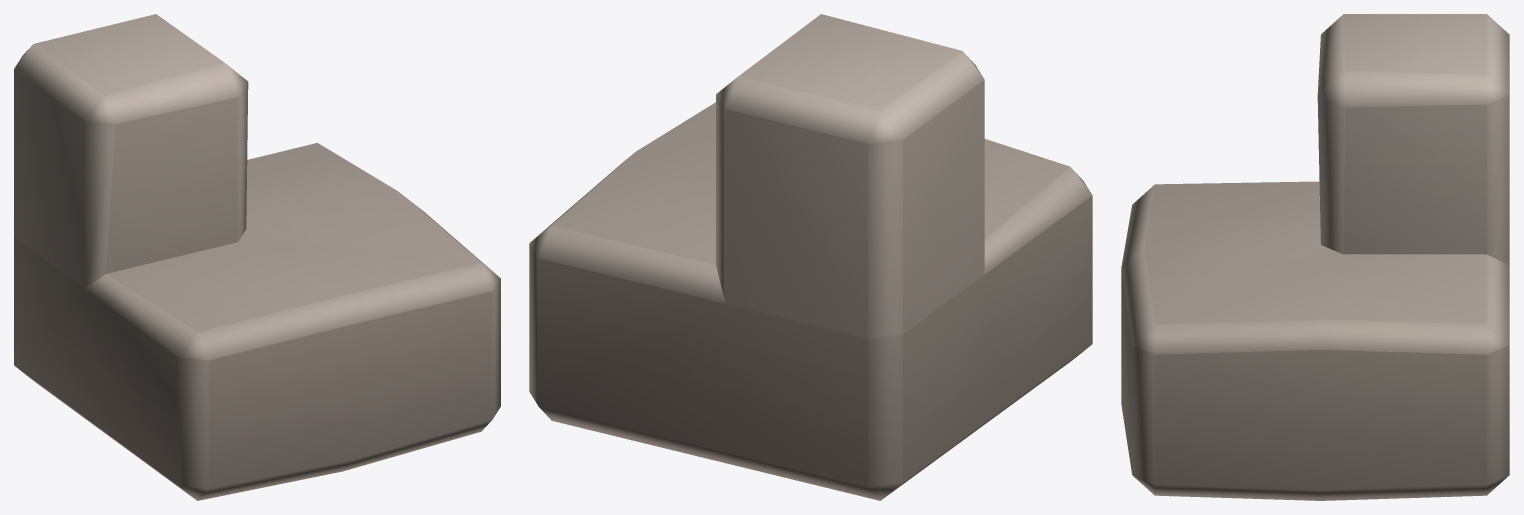
The model's file is elf_stair_corner_conv_shade_2.fbx.
The picture shows the model from 3 angles, left to right: view 1: azimuth 30°, elevation 25°; view 2: azimuth 150°, elevation 25°; view 3: azimuth 270°, elevation 25°; orthographic projection. The views are drawn at different scales.
Visible parts, largest first — view 1: elf_stair_corner_conv_shade_2; view 2: elf_stair_corner_conv_shade_2; view 3: elf_stair_corner_conv_shade_2.
Boxes of the visible parts, x1,y1,x2,y2 form: elf_stair_corner_conv_shade_2: (14, 14, 500, 500); elf_stair_corner_conv_shade_2: (529, 14, 1092, 500); elf_stair_corner_conv_shade_2: (1121, 14, 1509, 500).
Bounding box in the file's own units: 50.88 × 50.69 × 51.43.
